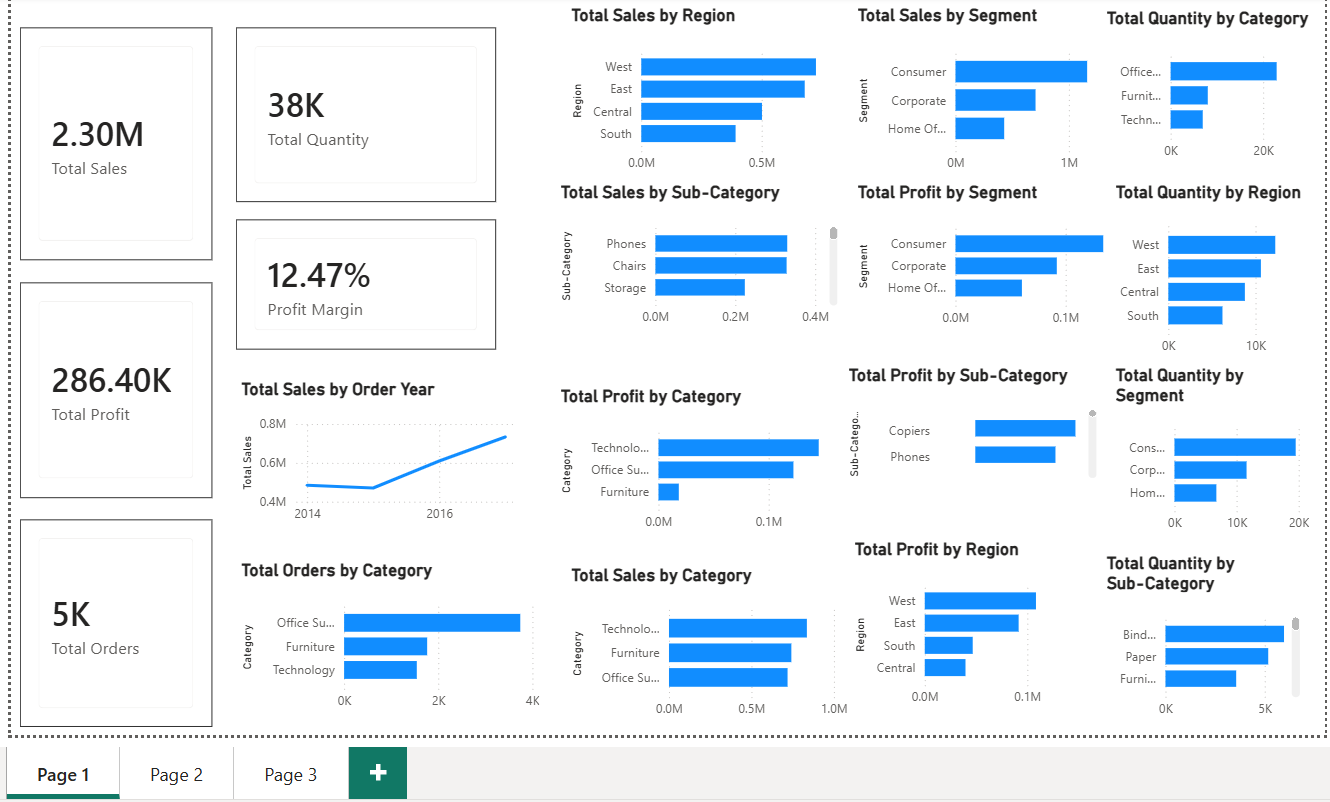

Layout of this report page (visuals, bound fields, positions):
{"tool":"powerbi","page":{"name":"Page 1","canvas":[1280,720],"ordinal":0},"visuals":[{"type":"cardVisual","fields":{"Data":["Sample - Superstore.Total Sales"]},"box":[9.4,30.2,187.1,226.8],"z":0},{"type":"cardVisual","fields":{"Data":["Sample - Superstore.Total Profit"]},"box":[9.4,279.7,187.1,209.8],"z":1000},{"type":"cardVisual","fields":{"Data":["Sample - Superstore.Total Orders"]},"box":[9.4,510.2,187.1,202.2],"z":2000},{"type":"cardVisual","fields":{"Data":["Sample - Superstore.Total Quantity"]},"box":[219.2,30.2,253.2,170.1],"z":3000},{"type":"cardVisual","fields":{"Data":["Sample - Superstore.Profit Margin"]},"box":[219.2,217.3,253.2,126.6],"z":4000},{"type":"lineChart","fields":{"Y":["Sample - Superstore.Total Sales"],"Category":["Sample - Superstore.Order Year"]},"box":[219.2,372.3,280,150],"z":5000},{"type":"clusteredBarChart","fields":{"Category":["Sample - Superstore.Category"],"Y":["Sample - Superstore.Total Sales"]},"box":[540.5,553.7,279.7,158.7],"z":6000},{"type":"clusteredBarChart","fields":{"Category":["Sample - Superstore.Region"],"Y":["Sample - Superstore.Total Sales"]},"box":[540.5,9.4,279.7,172],"z":7000},{"type":"clusteredBarChart","fields":{"Category":["Sample - Superstore.Sub-Category"],"Y":["Sample - Superstore.Total Sales"]},"box":[531,181.4,279.7,149.3],"z":8000},{"type":"clusteredBarChart","fields":{"Category":["Sample - Superstore.Category"],"Y":["Sample - Superstore.Total Profit"]},"box":[531,379.8,280,150],"z":9000},{"type":"clusteredBarChart","fields":{"Category":["Sample - Superstore.Segment"],"Y":["Sample - Superstore.Total Sales"]},"box":[820.2,9.4,279.7,172],"z":10000},{"type":"clusteredBarChart","fields":{"Category":["Sample - Superstore.Segment"],"Y":["Sample - Superstore.Total Profit"]},"box":[820,181,280,150],"z":11000},{"type":"clusteredBarChart","fields":{"Category":["Sample - Superstore.Sub-Category"],"Y":["Sample - Superstore.Total Profit"]},"box":[810.7,359.1,251.3,115.3],"z":12000},{"type":"clusteredBarChart","fields":{"Category":["Sample - Superstore.Region"],"Y":["Sample - Superstore.Total Profit"]},"box":[816.4,529.1,241.9,172],"z":13000},{"type":"clusteredBarChart","fields":{"Category":["Sample - Superstore.Category"],"Y":["Sample - Superstore.Total Quantity"]},"box":[1062.1,11.3,217.3,156.9],"z":14000},{"type":"clusteredBarChart","fields":{"Category":["Sample - Superstore.Region"],"Y":["Sample - Superstore.Total Quantity"]},"box":[1071.5,181.4,198.4,177.6],"z":15000},{"type":"clusteredBarChart","fields":{"Category":["Sample - Superstore.Segment"],"Y":["Sample - Superstore.Total Quantity"]},"box":[1071.5,359.1,198,172],"z":16000},{"type":"clusteredBarChart","fields":{"Category":["Sample - Superstore.Sub-Category"],"Y":["Sample - Superstore.Total Quantity"]},"box":[1062.1,542.4,198,170],"z":17000},{"type":"clusteredBarChart","fields":{"Category":["Sample - Superstore.Category"],"Y":["Sample - Superstore.Total Orders"]},"box":[219.6,549.7,300.5,155],"z":18000}]}

Visuals, with their boxes on the page's 1280x720 design canvas (x1, y1, x2, y2). These are canvas units, not pixel positions in the 1330x802 screenshot, which may show the page scaled, cropped or inside an application window:
cardVisual - Sample - Superstore.Total Sales: locate(9, 30, 196, 257)
cardVisual - Sample - Superstore.Total Profit: locate(9, 280, 196, 490)
cardVisual - Sample - Superstore.Total Orders: locate(9, 510, 196, 712)
cardVisual - Sample - Superstore.Total Quantity: locate(219, 30, 472, 200)
cardVisual - Sample - Superstore.Profit Margin: locate(219, 217, 472, 344)
lineChart - Sample - Superstore.Total Sales x Sample - Superstore.Order Year: locate(219, 372, 499, 522)
clusteredBarChart - Sample - Superstore.Category x Sample - Superstore.Total Sales: locate(540, 554, 820, 712)
clusteredBarChart - Sample - Superstore.Region x Sample - Superstore.Total Sales: locate(540, 9, 820, 181)
clusteredBarChart - Sample - Superstore.Sub-Category x Sample - Superstore.Total Sales: locate(531, 181, 811, 331)
clusteredBarChart - Sample - Superstore.Category x Sample - Superstore.Total Profit: locate(531, 380, 811, 530)
clusteredBarChart - Sample - Superstore.Segment x Sample - Superstore.Total Sales: locate(820, 9, 1100, 181)
clusteredBarChart - Sample - Superstore.Segment x Sample - Superstore.Total Profit: locate(820, 181, 1100, 331)
clusteredBarChart - Sample - Superstore.Sub-Category x Sample - Superstore.Total Profit: locate(811, 359, 1062, 474)
clusteredBarChart - Sample - Superstore.Region x Sample - Superstore.Total Profit: locate(816, 529, 1058, 701)
clusteredBarChart - Sample - Superstore.Category x Sample - Superstore.Total Quantity: locate(1062, 11, 1279, 168)
clusteredBarChart - Sample - Superstore.Region x Sample - Superstore.Total Quantity: locate(1072, 181, 1270, 359)
clusteredBarChart - Sample - Superstore.Segment x Sample - Superstore.Total Quantity: locate(1072, 359, 1270, 531)
clusteredBarChart - Sample - Superstore.Sub-Category x Sample - Superstore.Total Quantity: locate(1062, 542, 1260, 712)
clusteredBarChart - Sample - Superstore.Category x Sample - Superstore.Total Orders: locate(220, 550, 520, 705)
